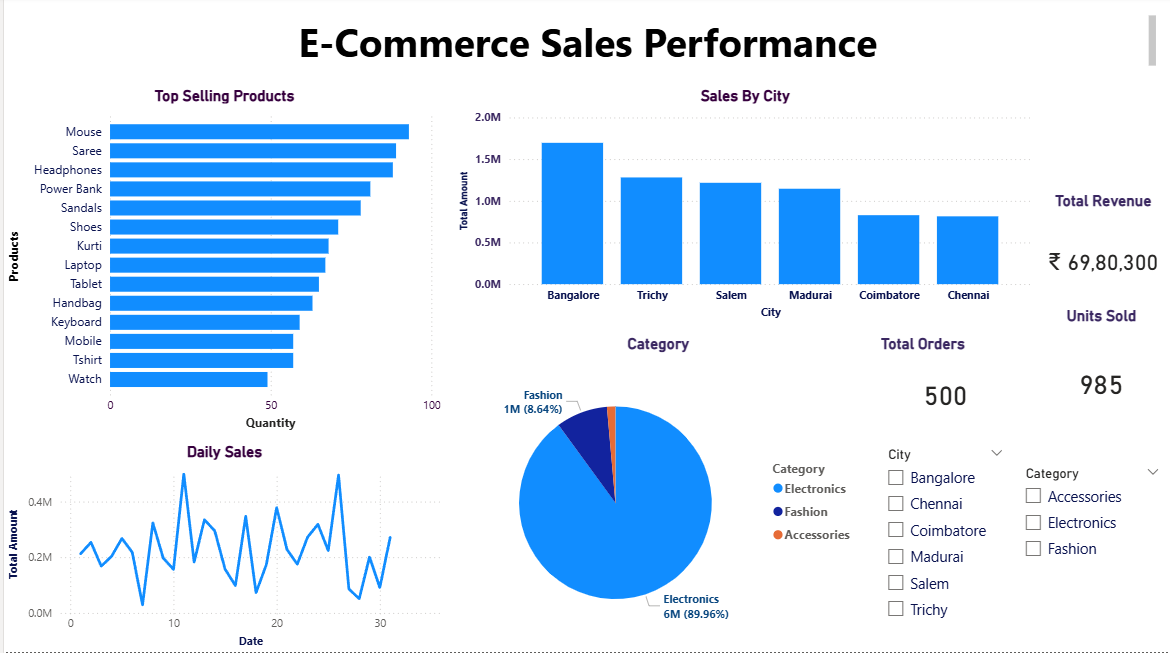

This screenshot's page, from the dashboard's own definition file:
{"tool":"powerbi","page":{"name":"Page 1","canvas":[1280,720],"ordinal":0},"visuals":[{"type":"card","title":"Total Revenue","fields":{"Values":["Sum(ecommerce_orders.Total_Amount)"]},"box":[1133.5,214.1,146.8,134.5],"z":0},{"type":"card","title":"Total Orders","fields":{"Values":["CountNonNull(ecommerce_orders.Order_ID)"]},"box":[957.8,371.9,150.9,109.8],"z":1000},{"type":"card","title":"Units Sold","fields":{"Values":["Sum(ecommerce_orders.Quantity)"]},"box":[1129.3,340.3,150.9,149.6],"z":2000},{"type":"clusteredBarChart","title":"Top Selling Products","fields":{"Category":["ecommerce_orders.Product"],"Y":["Sum(ecommerce_orders.Quantity)"]},"box":[0,98.8,484.4,382.8],"z":3000},{"type":"clusteredColumnChart","title":"Sales By City","fields":{"Category":["ecommerce_orders.City"],"Y":["Sum(ecommerce_orders.Total_Amount)"]},"box":[494,98.8,639.5,260.7],"z":4000},{"type":"pieChart","title":"Category","fields":{"Category":["ecommerce_orders.Category"],"Y":["Sum(ecommerce_orders.Total_Amount)"]},"box":[494,371.9,448.7,348.5],"z":5000},{"type":"lineChart","title":"Daily Sales","fields":{"Category":["ecommerce_orders.Order_Date.Variation.Date Hierarchy.Day"],"Y":["Sum(ecommerce_orders.Total_Amount)"]},"box":[0,489.9,484.4,230.5],"z":6000},{"type":"slicer","fields":{"Values":["ecommerce_orders.City"]},"box":[957.8,489.9,150.9,218.2],"z":7000},{"type":"slicer","fields":{"Values":["ecommerce_orders.Category"]},"box":[1108.8,510.5,171.5,196.2],"z":8000},{"type":"textbox","box":[20.6,16.5,1248.7,65.9],"z":9000}]}

Visuals, with their boxes in screenshot pixels (x1, y1, x2, y2), scaled from the page's 1280x720 canvas onto the 1170x653 screenshot:
"Total Revenue" card: x1=1036 y1=194 x2=1169 y2=316
"Total Orders" card: x1=875 y1=337 x2=1013 y2=437
"Units Sold" card: x1=1032 y1=309 x2=1169 y2=444
"Top Selling Products" clusteredBarChart: x1=0 y1=90 x2=443 y2=437
"Sales By City" clusteredColumnChart: x1=452 y1=90 x2=1036 y2=326
"Category" pieChart: x1=452 y1=337 x2=862 y2=652
"Daily Sales" lineChart: x1=0 y1=444 x2=443 y2=652
slicer - ecommerce_orders.City: x1=875 y1=444 x2=1013 y2=642
slicer - ecommerce_orders.Category: x1=1014 y1=463 x2=1169 y2=641
textbox: x1=19 y1=15 x2=1160 y2=75
